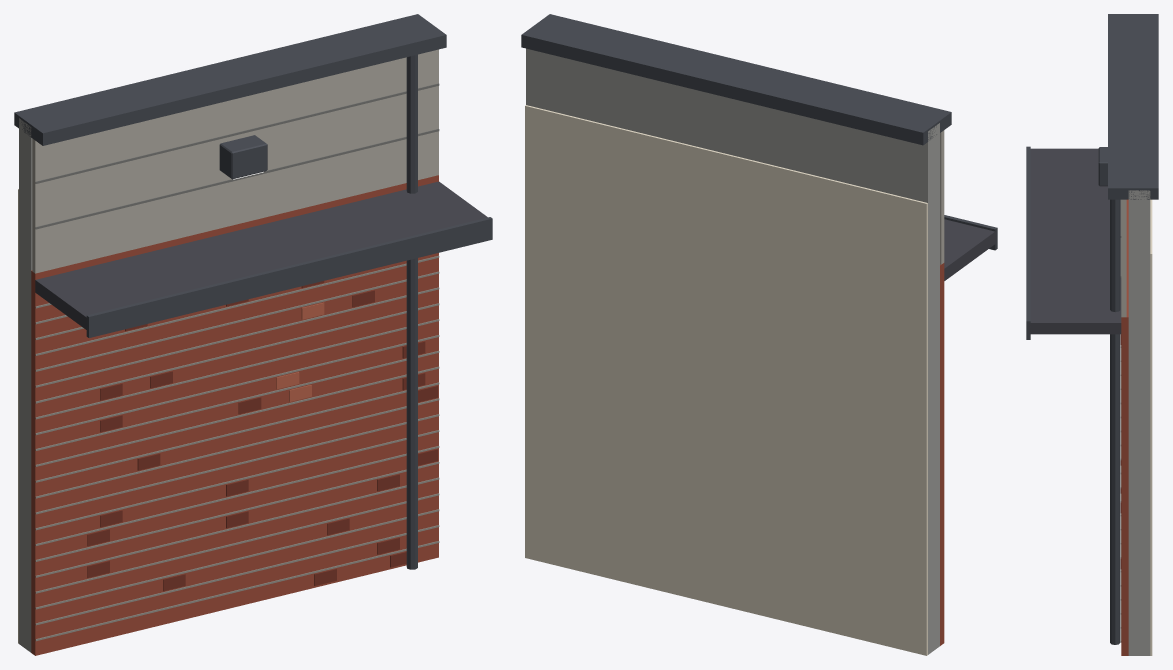
Rendered from Mart_Wall_Plain_4m.glb.
3 renders of one model, left to right at view 1: azimuth 30°, elevation 25°; view 2: azimuth 150°, elevation 25°; view 3: azimuth 270°, elevation 25°, orthographic. The views are drawn at different scales.
Parts seen in each view (by area): view 1: Mart_Wall_Plain_4m; view 2: Mart_Wall_Plain_4m; view 3: Mart_Wall_Plain_4m.
Part boxes in pixels (bbox=[...]): Mart_Wall_Plain_4m: bbox=[14, 14, 492, 655]; Mart_Wall_Plain_4m: bbox=[521, 14, 997, 655]; Mart_Wall_Plain_4m: bbox=[1026, 14, 1158, 655].
Bounding box in the file's own units: 4 × 5 × 1.28.
1 material, 1 textured.
